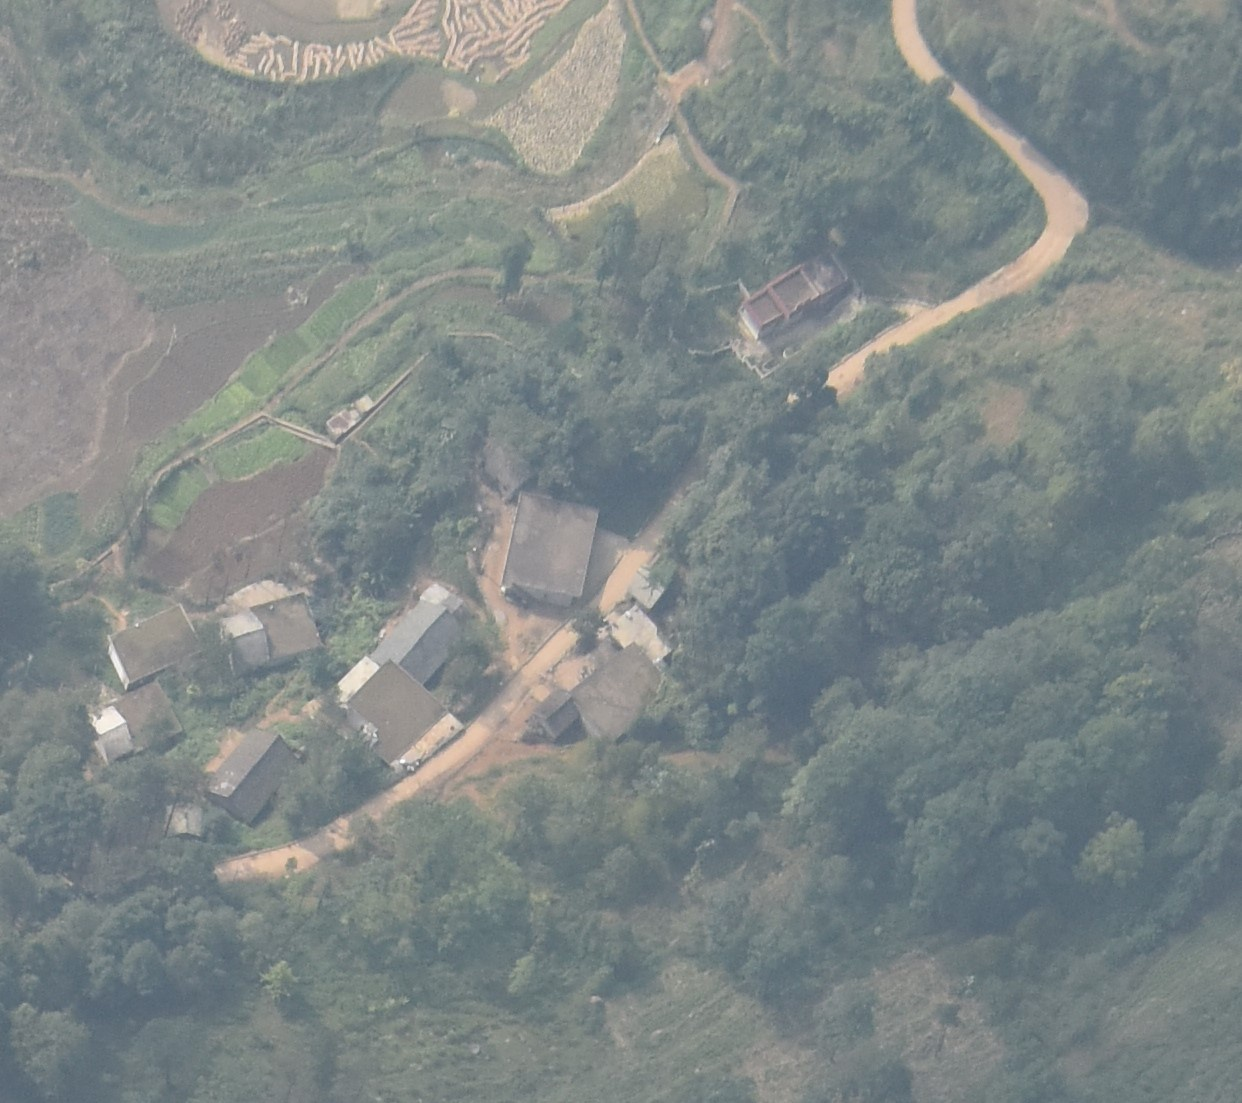building: (342, 660, 447, 772), (501, 488, 601, 594), (571, 642, 664, 743), (204, 728, 299, 825), (739, 251, 849, 333), (371, 596, 462, 688), (108, 603, 207, 687), (90, 682, 183, 762), (251, 592, 323, 661), (611, 604, 673, 666), (224, 607, 271, 671), (534, 689, 579, 744), (631, 553, 674, 608)
